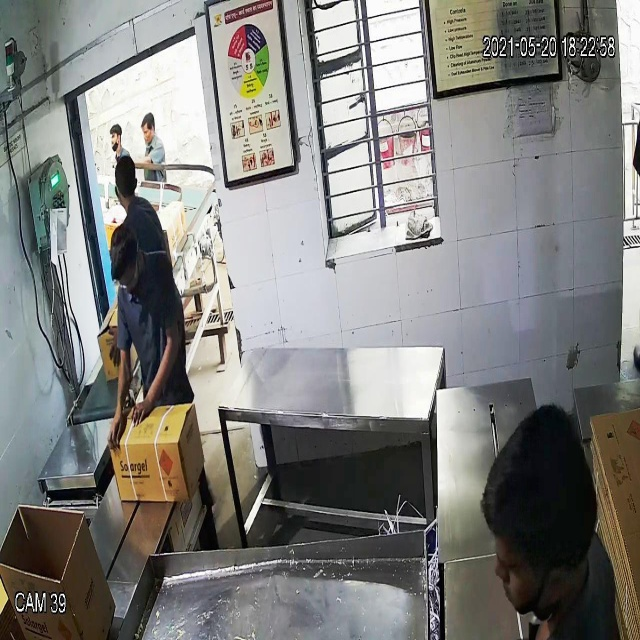Gafas: (114, 265, 142, 292)
